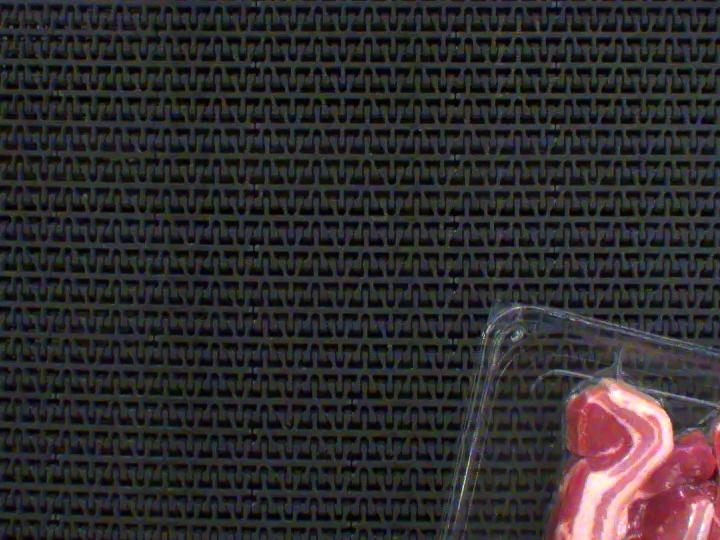packaging-error: (599, 342, 636, 383)
unsealed: (537, 363, 672, 418)
